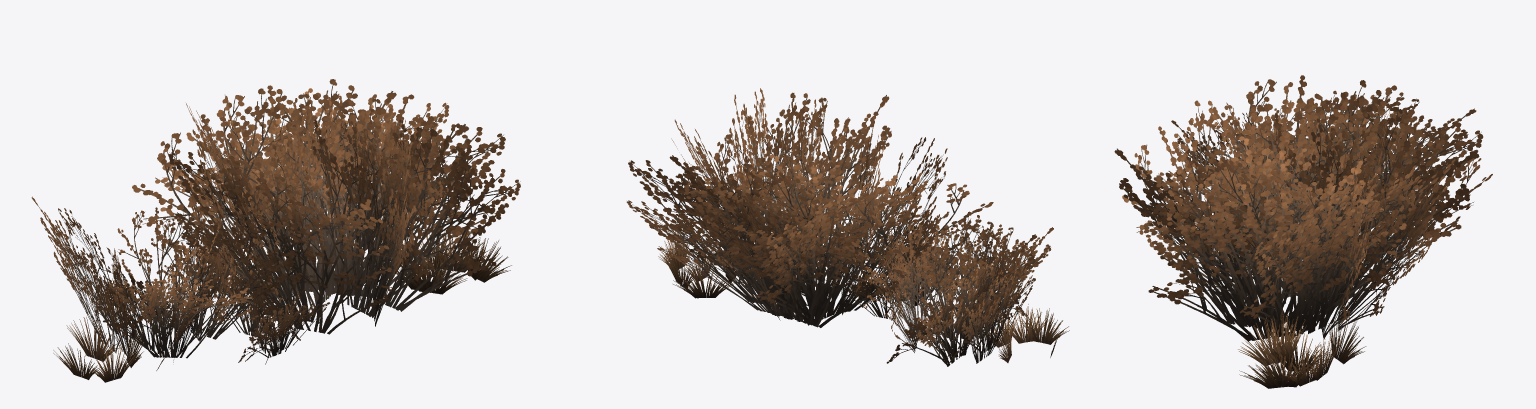
The model's file is mm6_deco_snoweed1.glb.
3 views of the same model, side by side, from view 1: azimuth 30°, elevation 25°; view 2: azimuth 150°, elevation 25°; view 3: azimuth 270°, elevation 25° (orthographic). The views are drawn at different scales.
Parts seen in each view (by area): view 1: Shrub; view 2: Shrub; view 3: Shrub.
Part boxes in pixels (box(x1,y1,x2,y2)): Shrub: box(31, 79, 520, 382); Shrub: box(626, 88, 1069, 366); Shrub: box(1114, 75, 1492, 388).
Bounding box in the file's own units: 3.08 × 1.45 × 2.3.
1 material, 1 textured.
